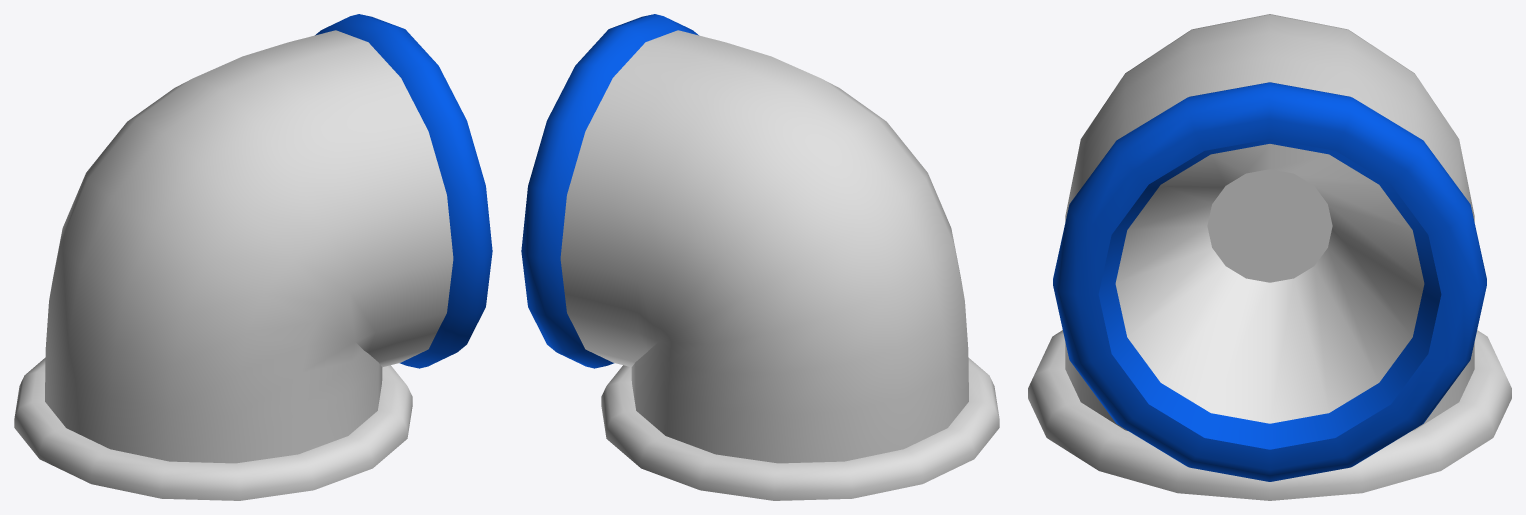
3 views of the same model, side by side, from view 1: azimuth 30°, elevation 25°; view 2: azimuth 150°, elevation 25°; view 3: azimuth 270°, elevation 25° (orthographic). The views are drawn at different scales.
Parts seen in each view (by area): view 1: Cylinder; view 2: Cylinder; view 3: Cylinder.
Part boxes in pixels (box(x1,y1,x2,y2)): Cylinder: box(14, 14, 492, 500); Cylinder: box(521, 14, 999, 500); Cylinder: box(1028, 14, 1511, 500).
Size of the model in its own units: 0.6252 by 0.5579 by 0.587.
